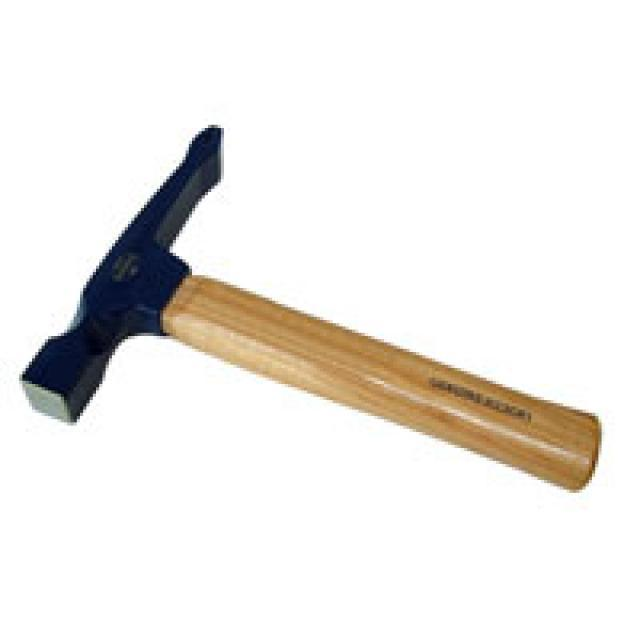hammer: (9, 109, 606, 502)
